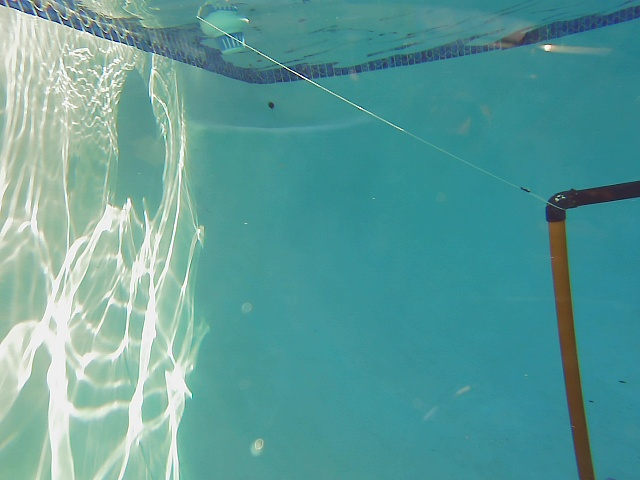Gate: (544, 215, 598, 479)
